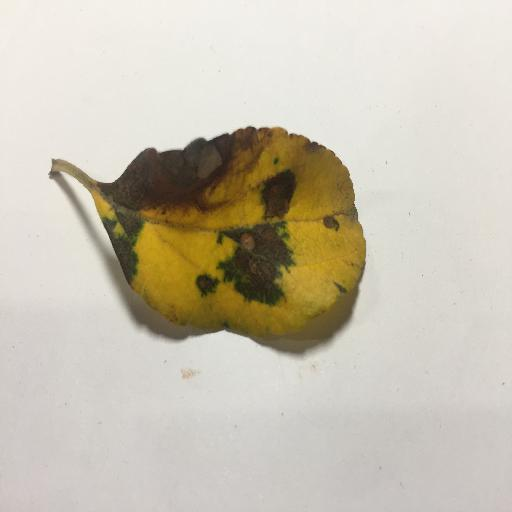Brown_Spot: (102, 146, 230, 206), (223, 236, 283, 303), (266, 177, 293, 220), (115, 242, 134, 274), (190, 272, 214, 293), (321, 219, 344, 237)
